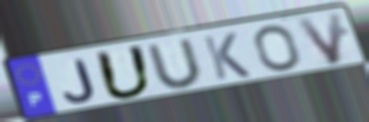J: (61, 57, 98, 104)
K: (200, 31, 254, 82)
O: (252, 23, 304, 72)
U: (92, 43, 156, 101), (143, 36, 207, 90)
V: (294, 10, 344, 67)
